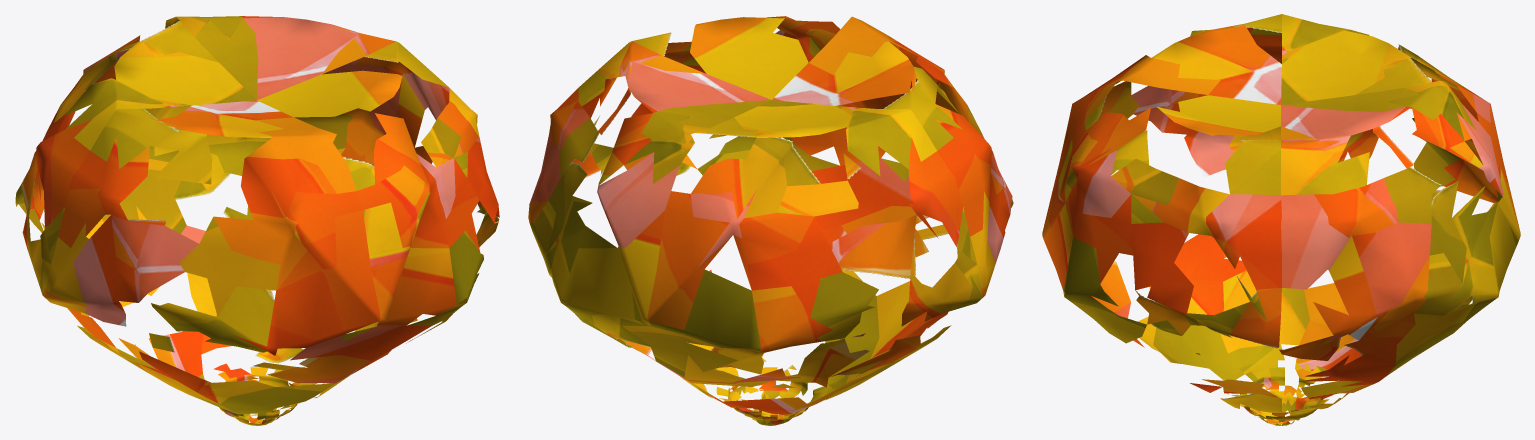
The model's file is citrine_gem_single_3500tris.fbx.
3 views of the same model, side by side, from view 1: azimuth 30°, elevation 25°; view 2: azimuth 150°, elevation 25°; view 3: azimuth 270°, elevation 25° (orthographic).
Parts seen in each view (by area): view 1: citrine_gem_single_decimated; view 2: citrine_gem_single_decimated; view 3: citrine_gem_single_decimated.
Boxes of the visible parts, x1,y1,x2,y2 form: citrine_gem_single_decimated: (15,16,499,425); citrine_gem_single_decimated: (528,16,1013,425); citrine_gem_single_decimated: (1042,14,1520,425).
Size of the model in its own units: 1.9 by 1.48 by 1.87.
